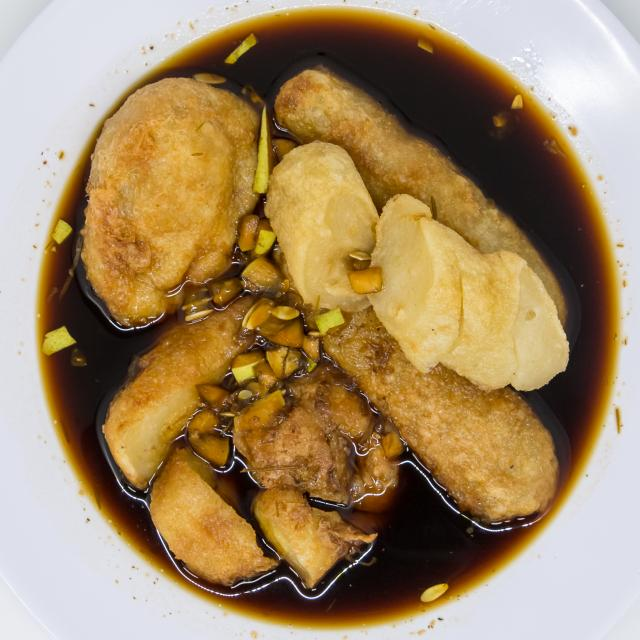Pempek-Palembang: (60, 57, 588, 608)
